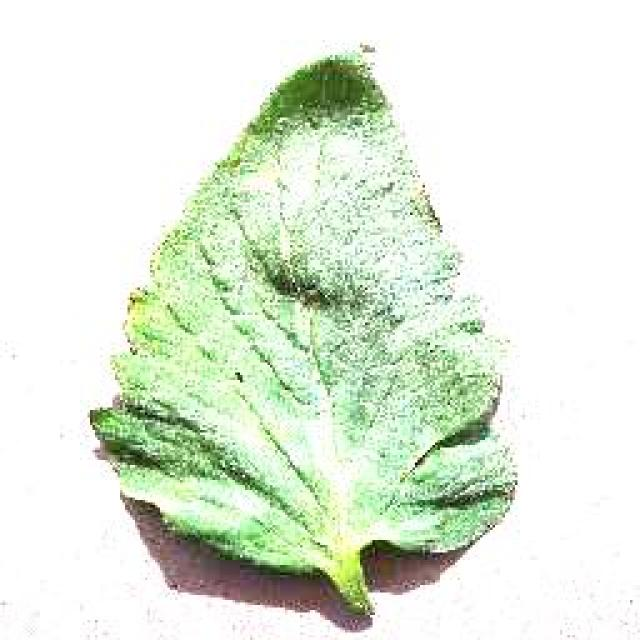Tomato___Target_Spot: (90, 45, 515, 612)
